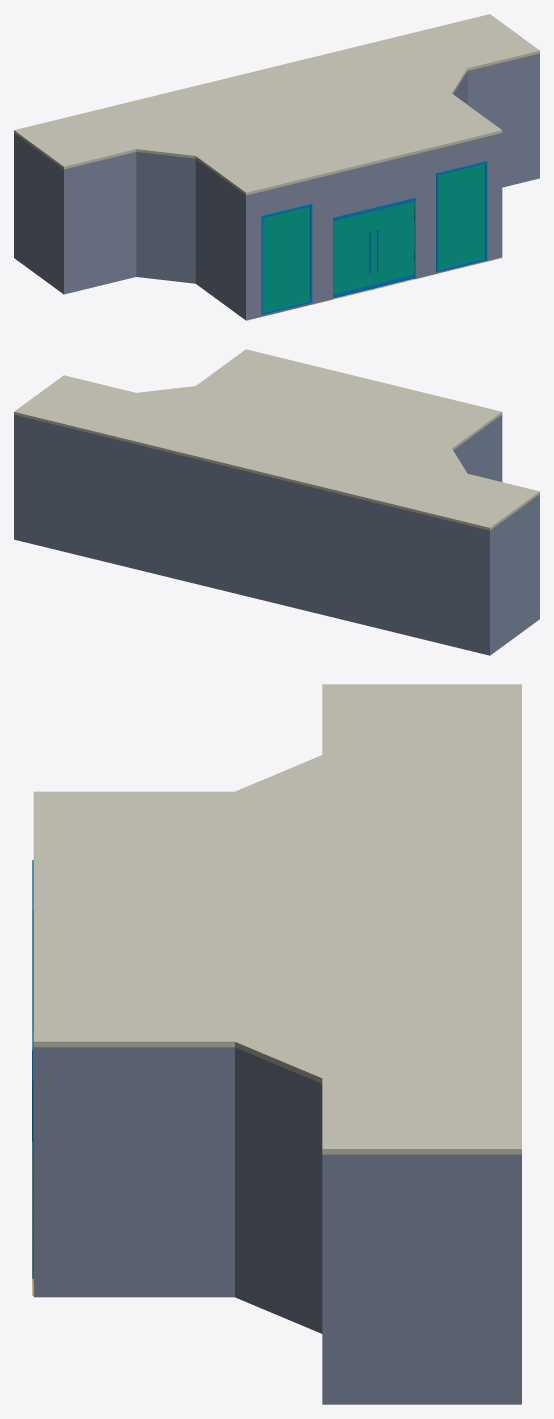
File: lobby_uv.fbx
3 renders of one model, top to bottom at view 1: azimuth 30°, elevation 25°; view 2: azimuth 150°, elevation 25°; view 3: azimuth 270°, elevation 25°, orthographic. The views are drawn at different scales.
Parts seen in each view (by area): view 1: lobby_building, lobby_outside, entranceL, entranceR; view 2: lobby_outside, lobby_building; view 3: lobby_building, lobby_outside.
Part boxes in pixels (bbox=[...]): lobby_building: bbox=[14, 14, 539, 320]; lobby_outside: bbox=[14, 53, 539, 320]; entranceL: bbox=[373, 198, 414, 288]; entranceR: bbox=[333, 208, 373, 298]; lobby_outside: bbox=[14, 414, 539, 655]; lobby_building: bbox=[14, 349, 539, 530]; lobby_building: bbox=[32, 684, 521, 1295]; lobby_outside: bbox=[33, 1047, 521, 1404].
Bounding box in the file's own units: 1931 × 496 × 861.
